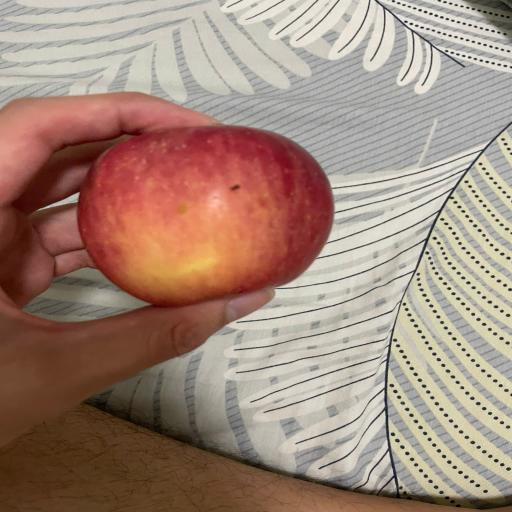apple: (77, 126, 334, 306)
